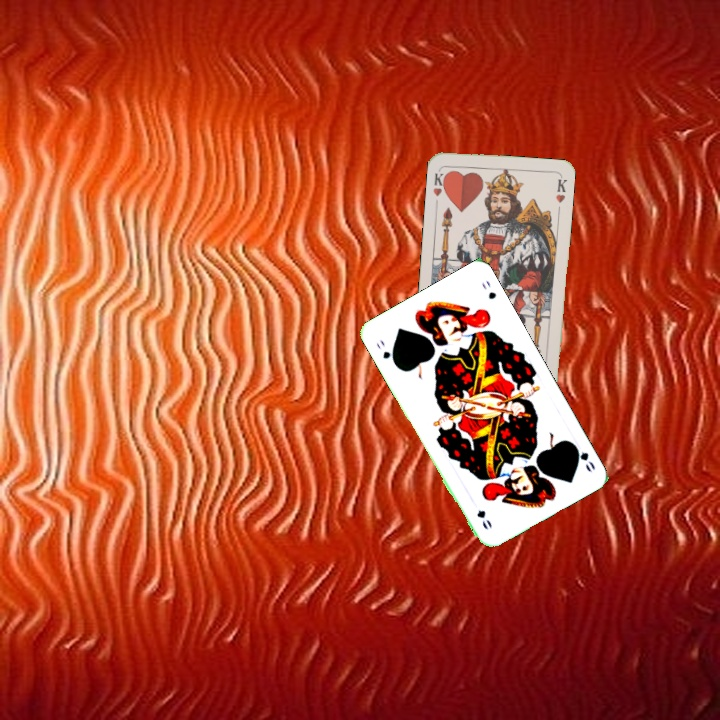GO: (568, 439, 598, 475), (372, 335, 399, 368)
HK: (429, 165, 450, 199)
